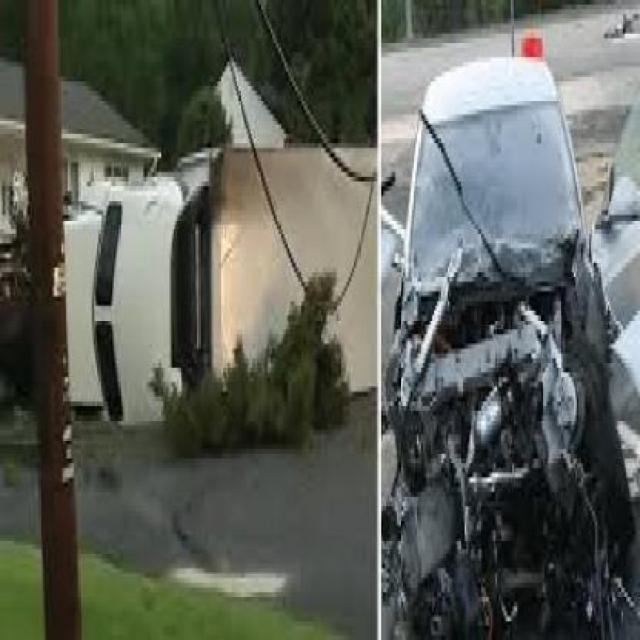accident: (390, 66, 605, 640)
